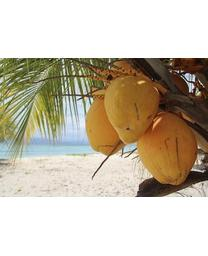coconut: (136, 112, 197, 186), (104, 74, 159, 144), (85, 97, 130, 156)
